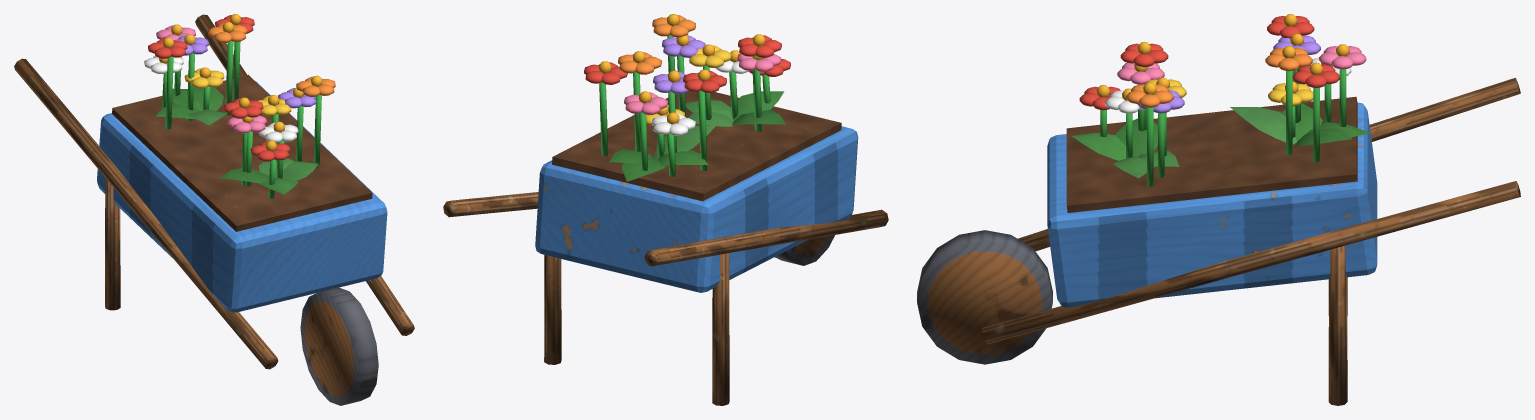
Rendered from flower_barrow.glb.
3 views of the same model, side by side, from view 1: azimuth 30°, elevation 25°; view 2: azimuth 150°, elevation 25°; view 3: azimuth 270°, elevation 25° (orthographic). The views are drawn at different scales.
Visible parts, largest first — view 1: FlowerBarrow; view 2: FlowerBarrow; view 3: FlowerBarrow.
Part boxes in pixels (x1,y1,x2,y2): FlowerBarrow: [14, 14, 414, 405]; FlowerBarrow: [443, 14, 888, 405]; FlowerBarrow: [917, 14, 1520, 405].
Size of the model in its own units: 0.7731 by 1.05 by 1.78.
1 material, 1 textured.
